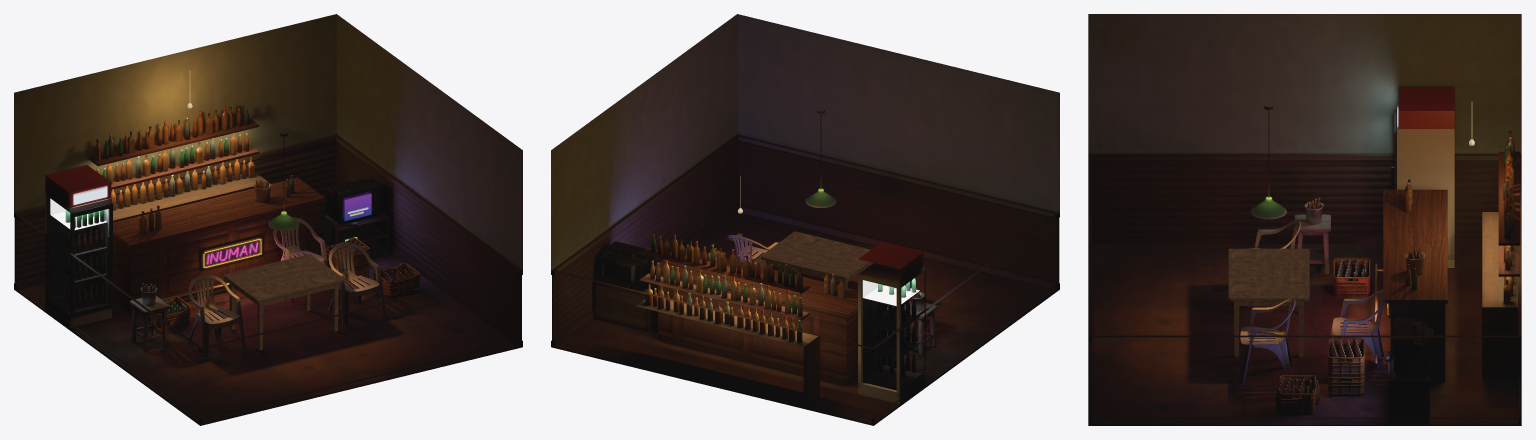
The model's file is dive-bar.raw.glb.
The picture shows the model from 3 angles, left to right: view 1: azimuth 30°, elevation 25°; view 2: azimuth 150°, elevation 25°; view 3: azimuth 270°, elevation 25°; orthographic projection. The views are drawn at different scales.
Visible parts, largest first — view 1: Background, Table; view 2: Background, Table; view 3: Background, Table.
Boxes of the visible parts, bbox=[...] form: Background: bbox=[14, 14, 522, 425]; Table: bbox=[224, 254, 343, 349]; Background: bbox=[551, 14, 1059, 425]; Table: bbox=[761, 231, 873, 287]; Background: bbox=[1088, 14, 1521, 425]; Table: bbox=[1228, 248, 1309, 356].
Bounding box in the file's own units: 4.8 × 2.8 × 4.8.
2 materials, 2 textured.
